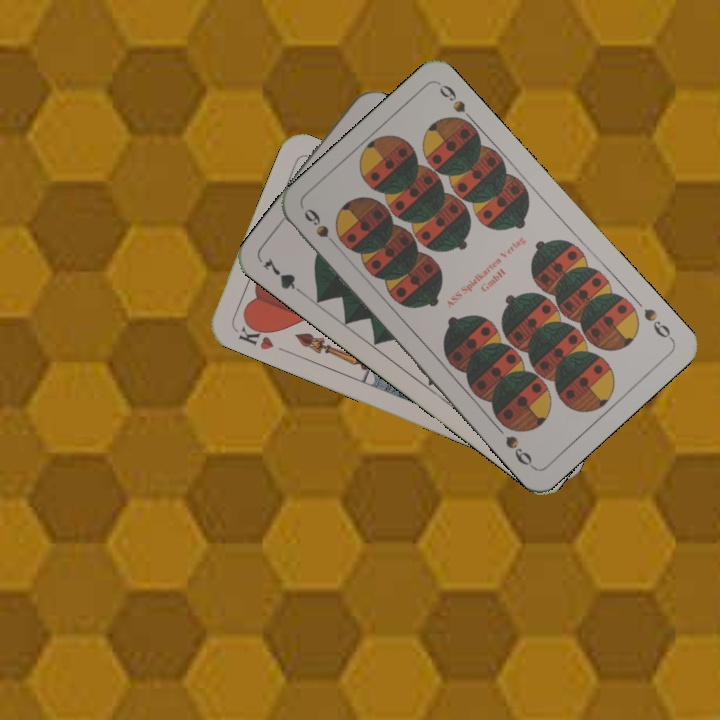G7: (259, 253, 309, 299)
HK: (232, 317, 276, 353)
S9: (299, 204, 344, 253), (639, 304, 676, 344)
